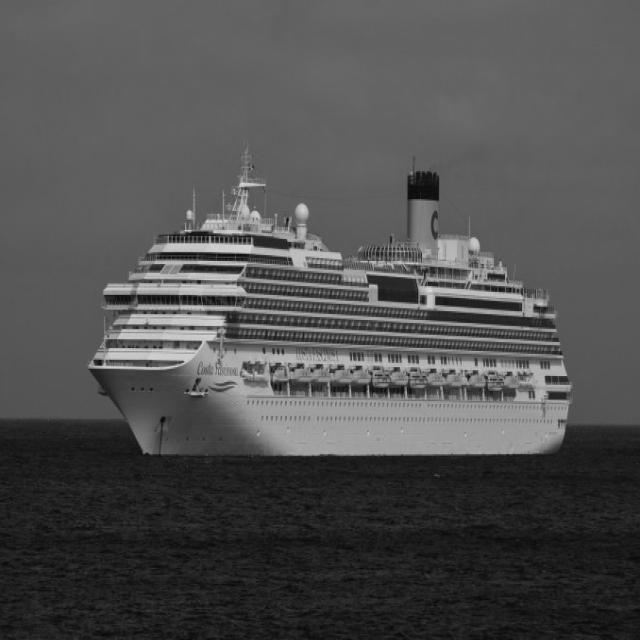cruises: (72, 134, 585, 468)
